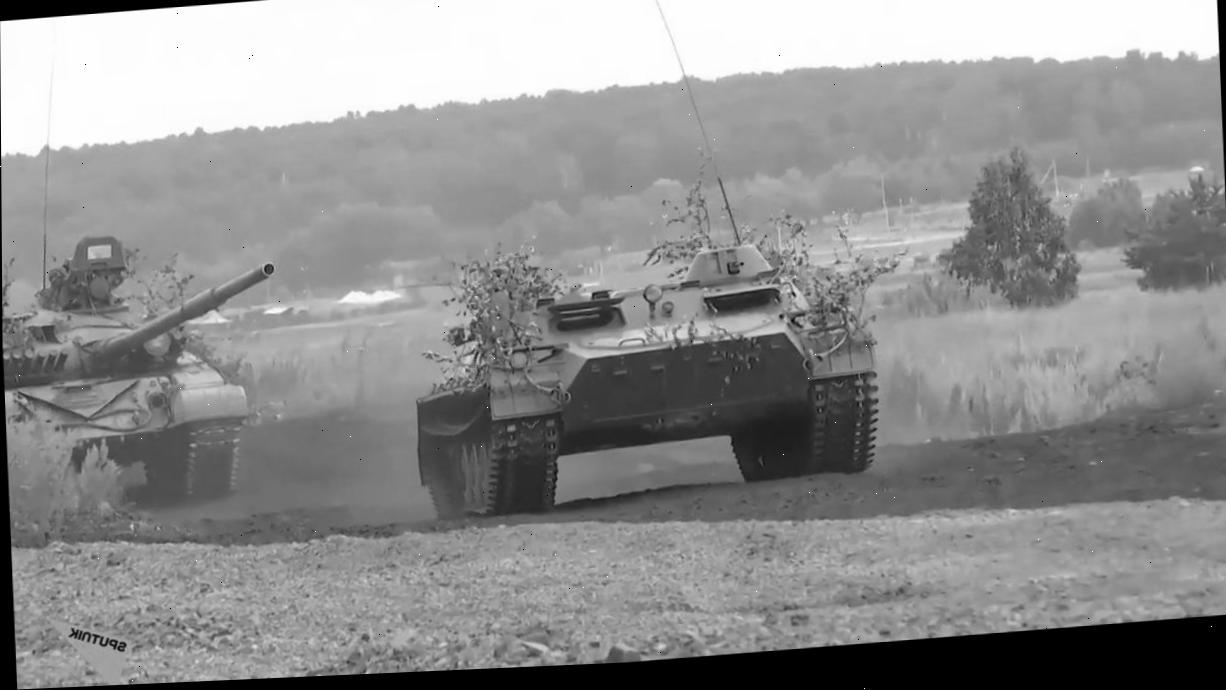tank: (407, 233, 885, 528), (2, 253, 288, 534)
